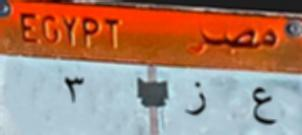3: (59, 71, 90, 112)
ain: (248, 80, 280, 128)
zay: (180, 75, 209, 124)
